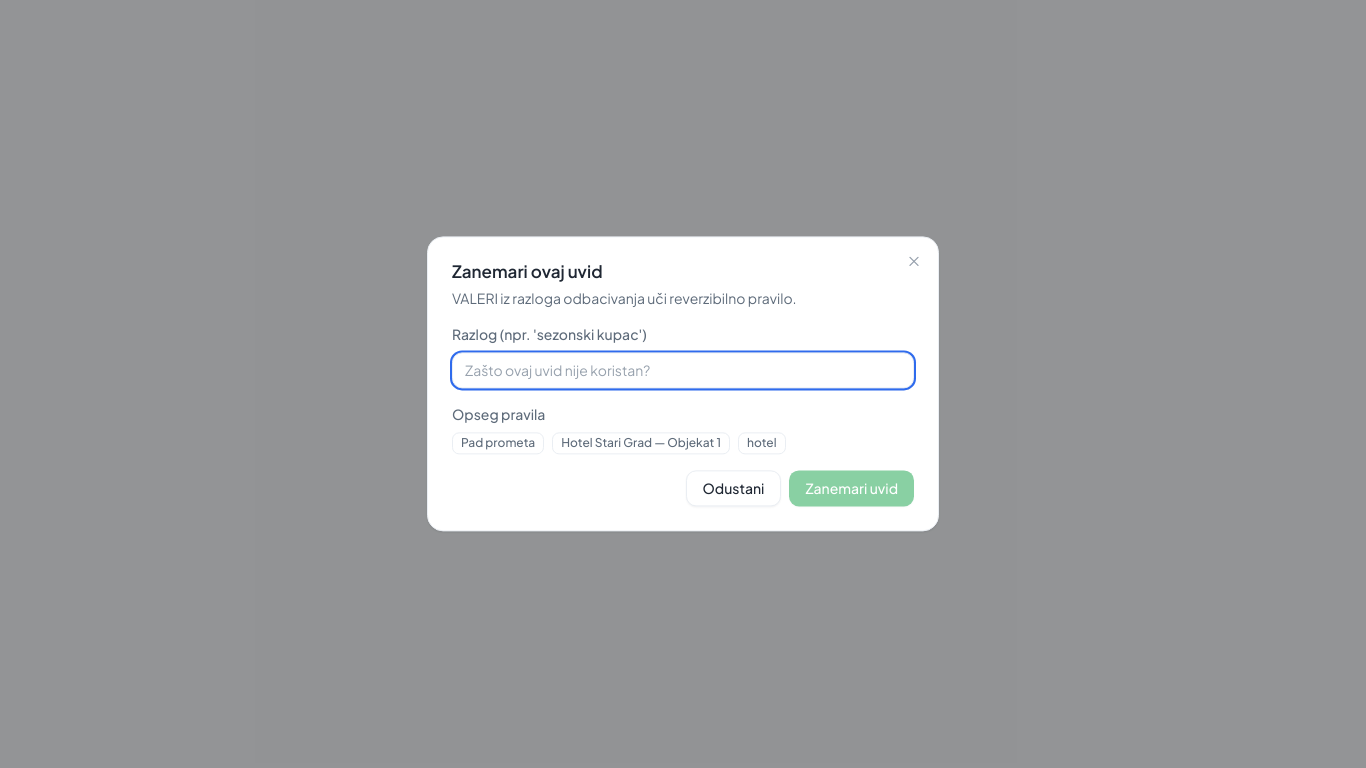
Test: RuleCard (M10) — pending proposal (requires confirm) › dismissal sends the reason and shows the proposal: description, scope, SQL blast radius
Type "Svi kafići su sezonski" into the field labelled "Razlog (npr. 'sezonski kupac')" at (683, 371), box [452,353,914,389]
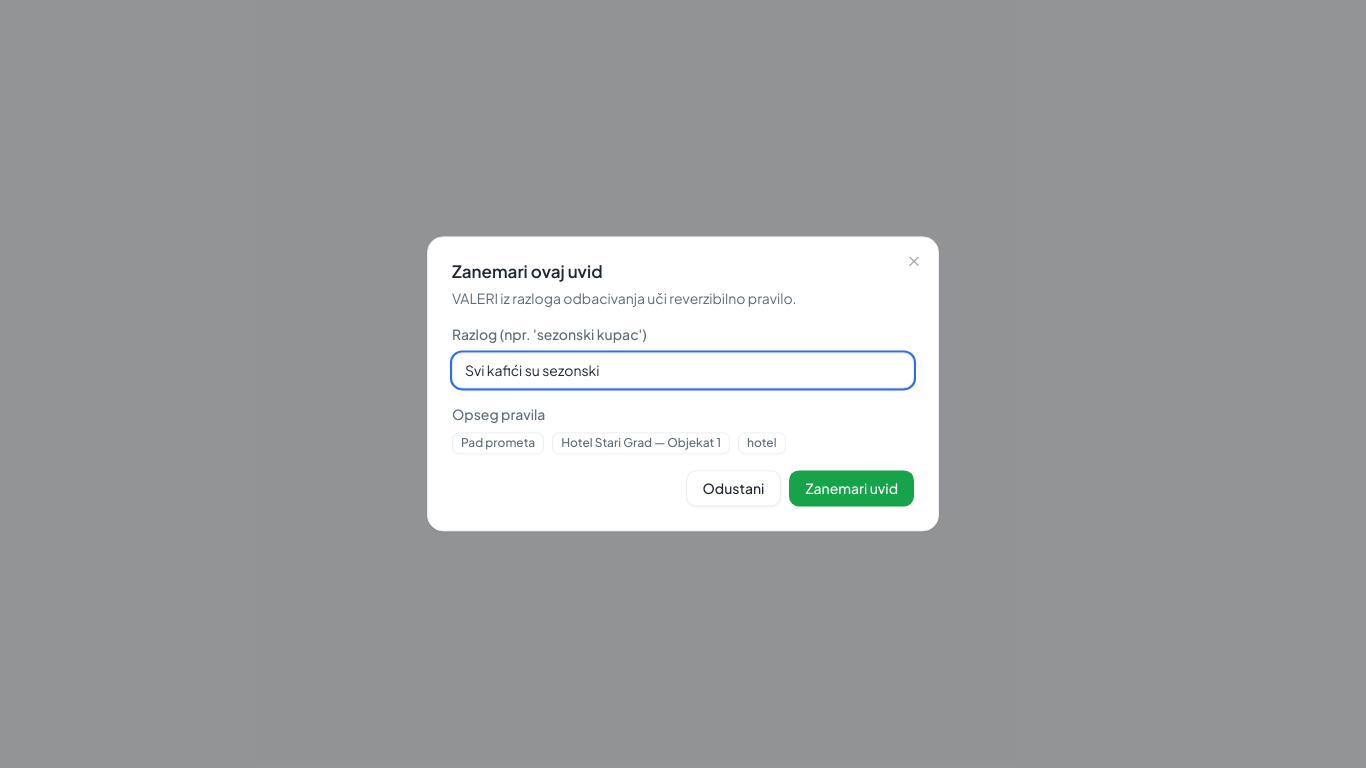
Click the button with test id "submit-dismiss-button" at (852, 489), box [789,471,914,507]
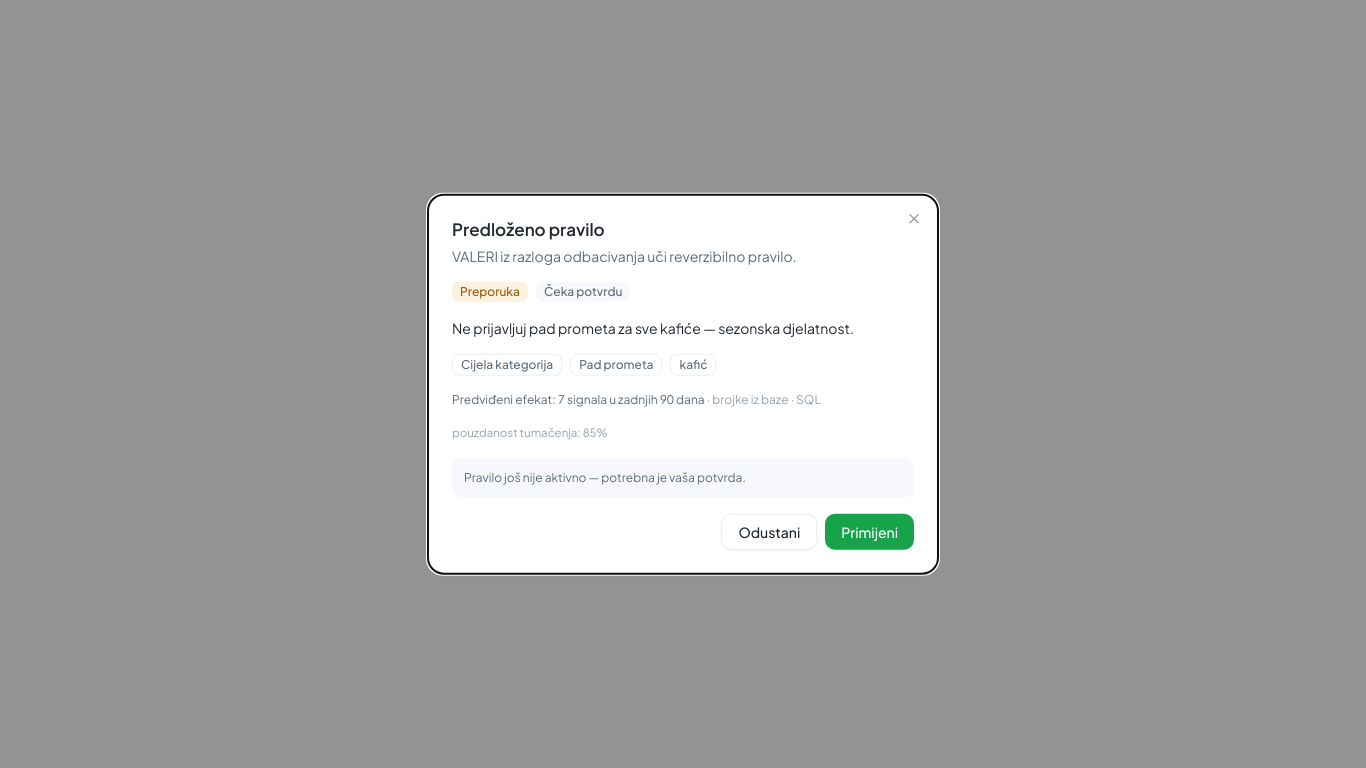
Result: the element with test id "rule-proposal" is shown at [452,282,914,497]
Result: the text with test id "rule-description" shows "Ne prijavljuj pad prometa za sve kafiće" at [452,319,854,337]
Result: the text "Preporuka" is shown at [452,282,528,302]
